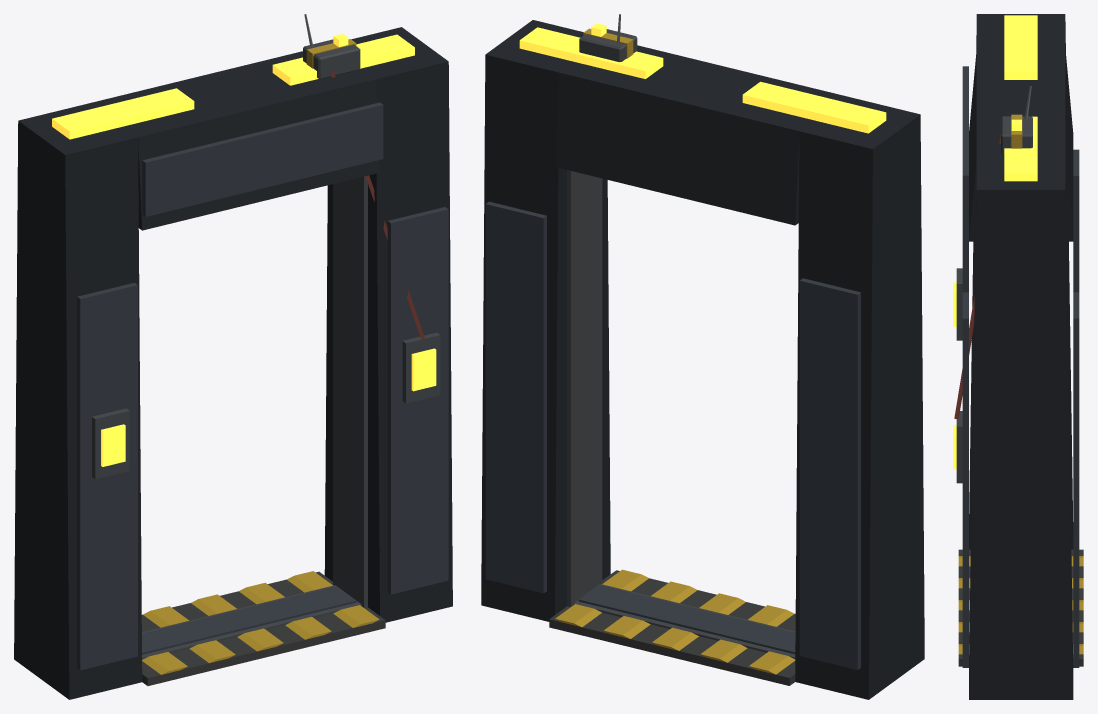
Rendered from device_door_hacked_open.glb.
3 views of the same model, side by side, from view 1: azimuth 30°, elevation 25°; view 2: azimuth 150°, elevation 25°; view 3: azimuth 270°, elevation 25° (orthographic). The views are drawn at different scales.
Parts seen in each view (by area): view 1: device_door_mesh; view 2: device_door_mesh; view 3: device_door_mesh.
Part boxes in pixels (x1,y1,x2,y2): device_door_mesh: [14, 14, 452, 699]; device_door_mesh: [481, 14, 924, 699]; device_door_mesh: [953, 14, 1083, 699].
Bounding box in the file's own units: 2 × 2.97 × 0.625.
